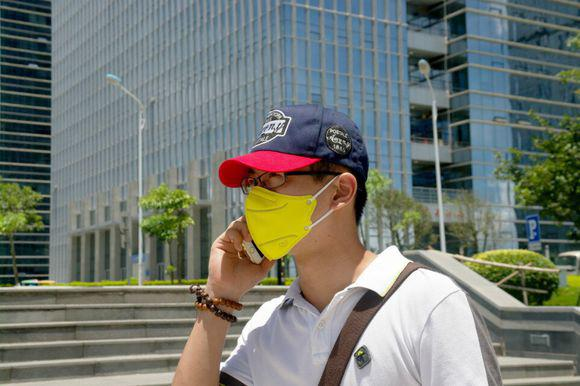OK: (242, 159, 342, 259)
